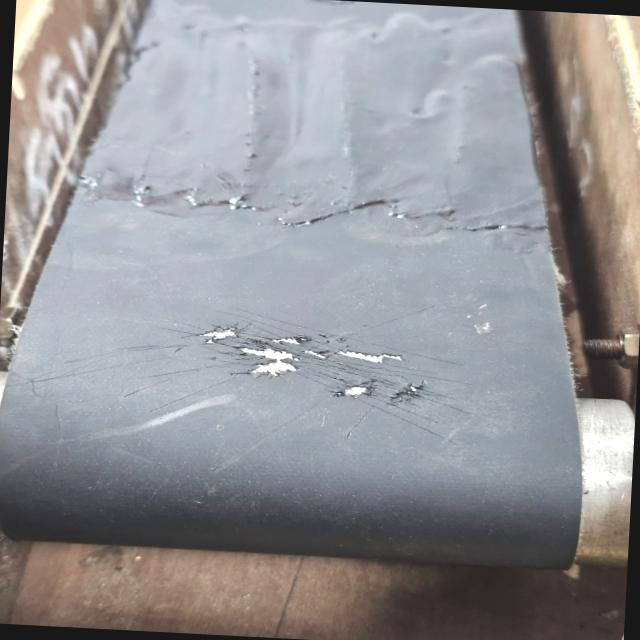Joint_Damage: (125, 0, 540, 227)
scratch: (152, 308, 471, 438)
